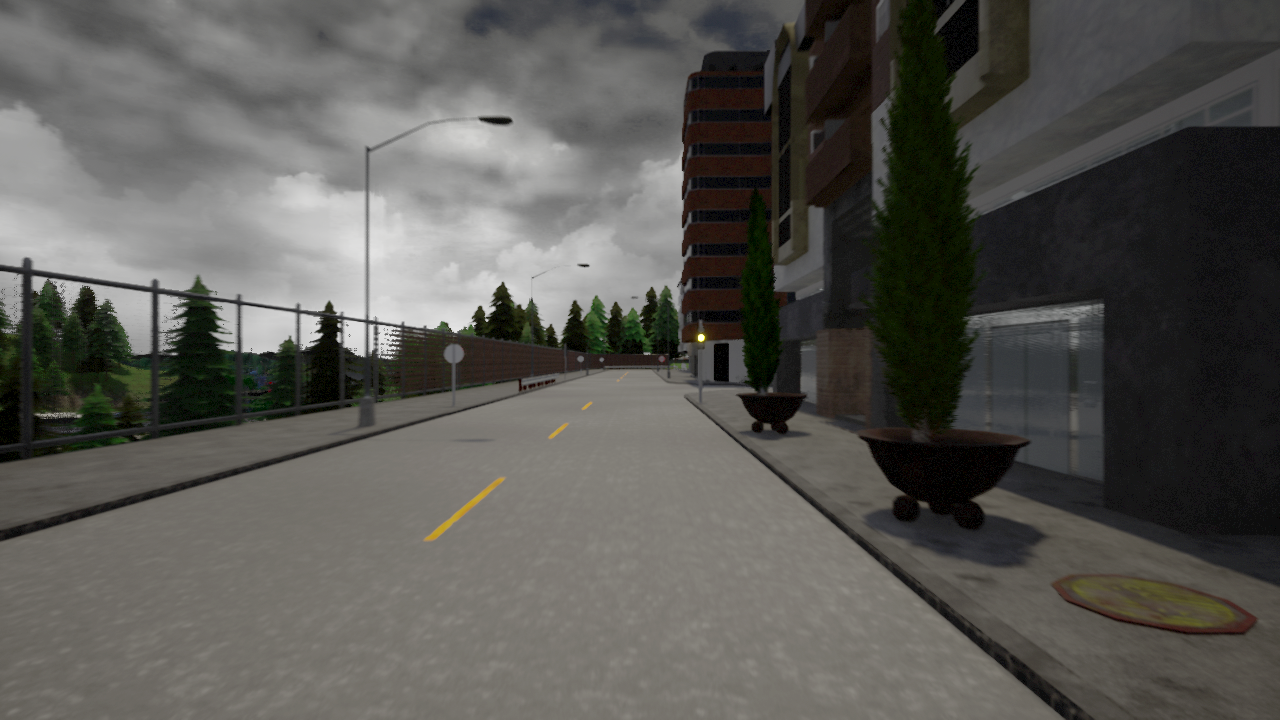yellow: (695, 323, 705, 351)
